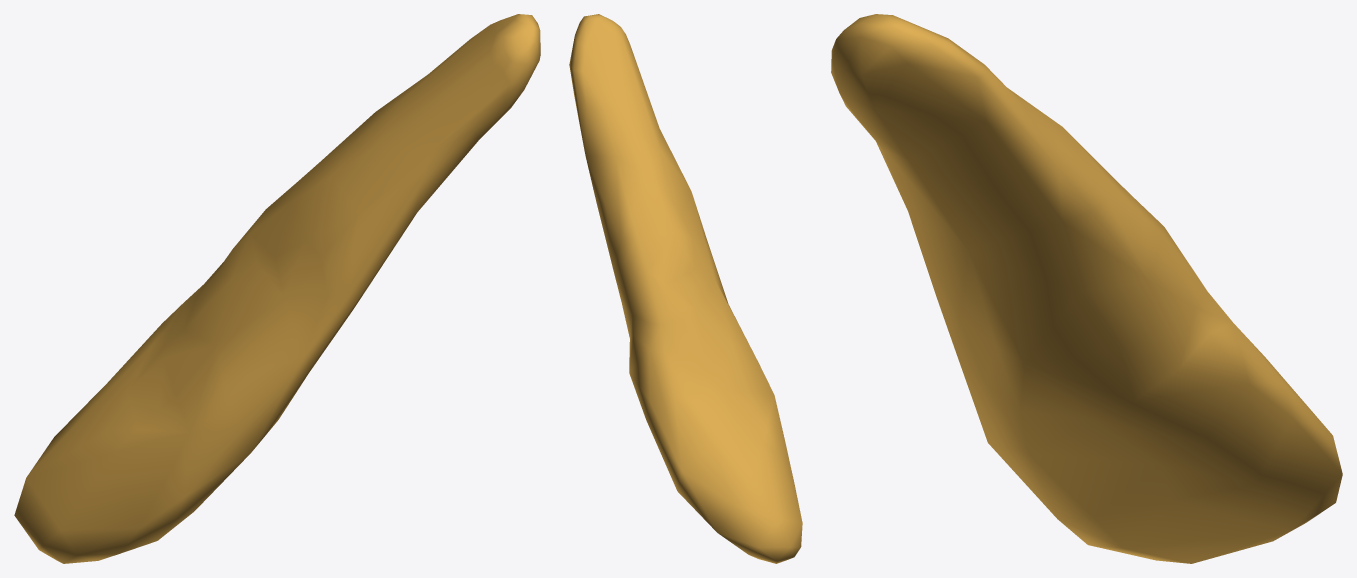
The picture shows the model from 3 angles, left to right: view 1: azimuth 30°, elevation 25°; view 2: azimuth 150°, elevation 25°; view 3: azimuth 270°, elevation 25°; orthographic projection. The views are drawn at different scales.
Parts seen in each view (by area): view 1: 左侧舌下腺; view 2: 左侧舌下腺; view 3: 左侧舌下腺.
Boxes of the visible parts, bbox=[...] form: 左侧舌下腺: bbox=[14, 14, 540, 563]; 左侧舌下腺: bbox=[569, 14, 802, 563]; 左侧舌下腺: bbox=[831, 14, 1342, 563].
Bounding box in the file's own units: 0.0243 × 0.0312 × 0.0182.
